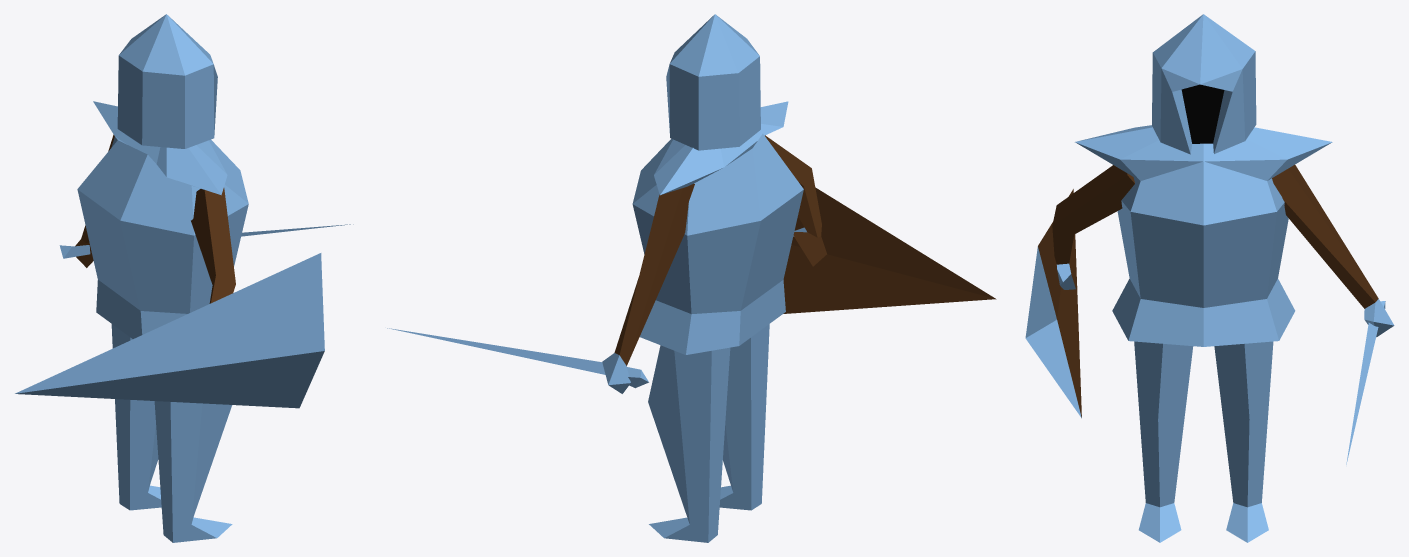
File: ruutel_shield4.0.glb
3 renders of one model, left to right at view 1: azimuth 30°, elevation 25°; view 2: azimuth 150°, elevation 25°; view 3: azimuth 270°, elevation 25°, orthographic.
Visible parts, largest first — view 1: arm_r, armor, head, leg_r, leg_l, arm_l; view 2: armor, arm_r, leg_l, head, arm_l, leg_r; view 3: armor, head, arm_r, leg_l, leg_r, arm_l.
Part boxes in pixels (x1,y1,x2,y2): arm_r: (15,188,324,408); armor: (77,101,248,338); head: (117,14,217,148); leg_r: (154,401,232,542); leg_l: (111,324,161,510); arm_l: (59,134,353,267); armor: (632,101,803,354); arm_r: (765,135,996,313); leg_l: (648,345,730,542); head: (666,14,760,150); arm_l: (387,183,694,393); leg_r: (719,324,769,510); armor: (1075,125,1332,346); head: (1152,14,1256,154); arm_r: (1025,165,1134,418); leg_l: (1214,341,1273,542); leg_r: (1134,341,1193,542); arm_l: (1272,165,1394,464).
Bounding box in the file's own units: 2.97 × 3.01 × 1.98.
